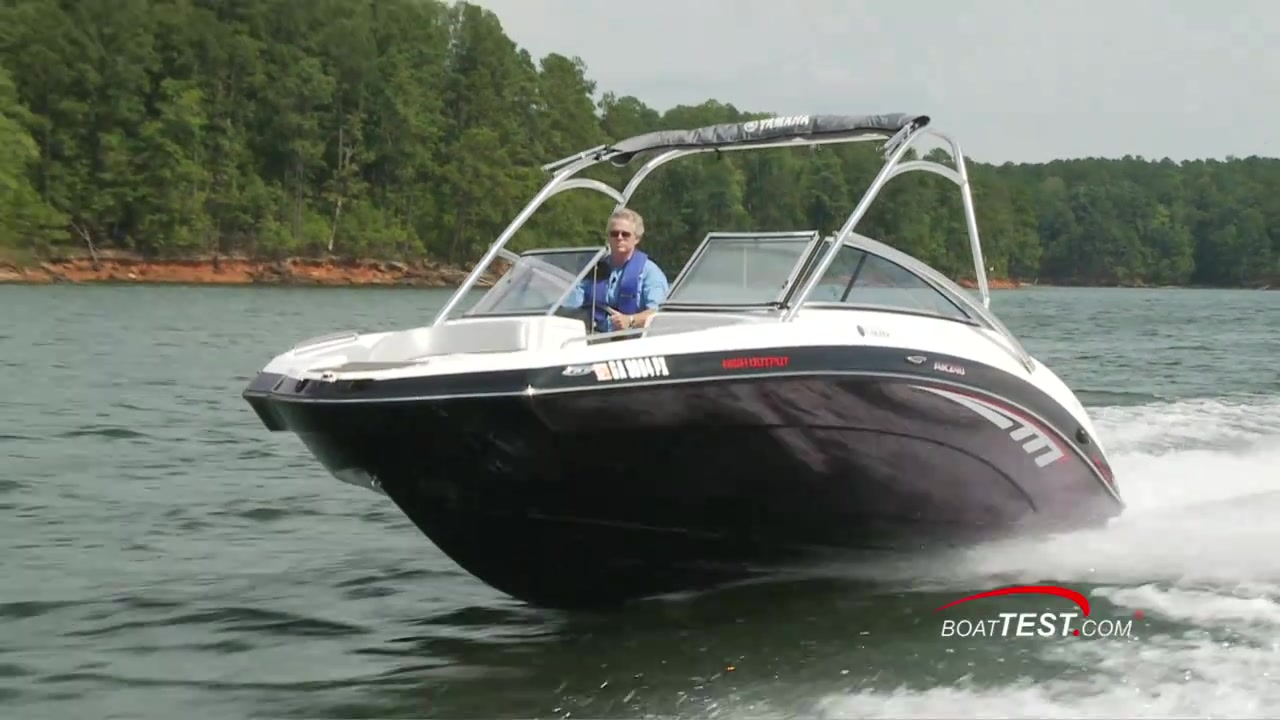boat: (242, 113, 1126, 617)
